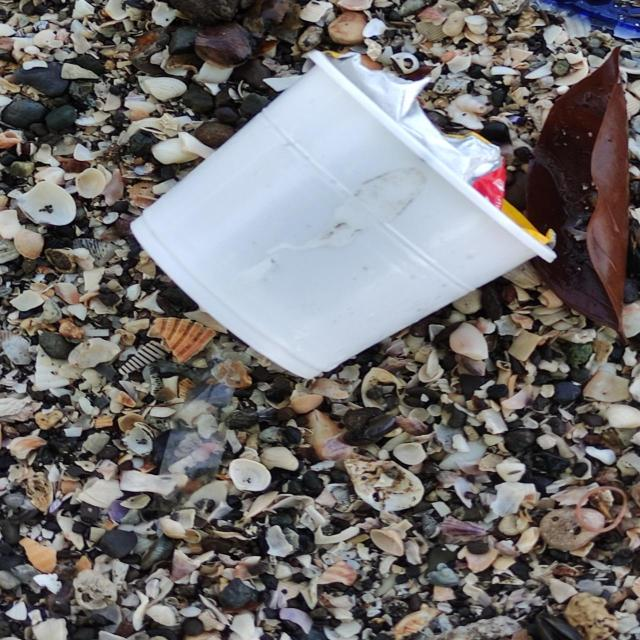plastic_waste: (133, 59, 626, 387)
